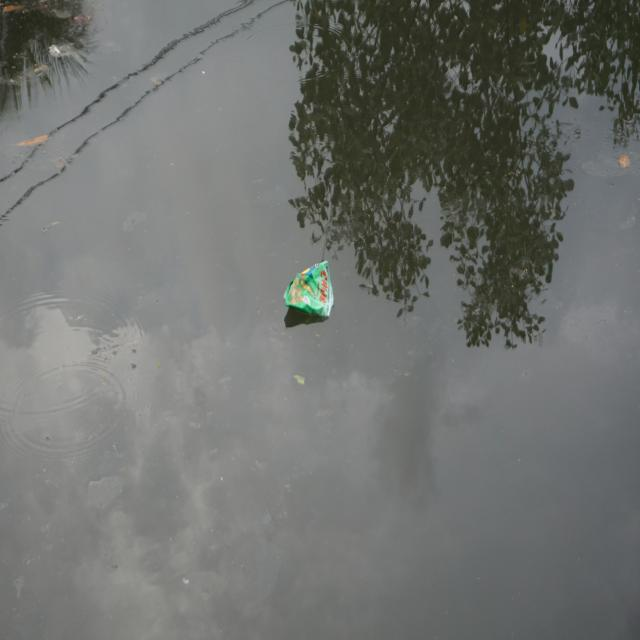Bungkus Makanan: (280, 251, 341, 331)
